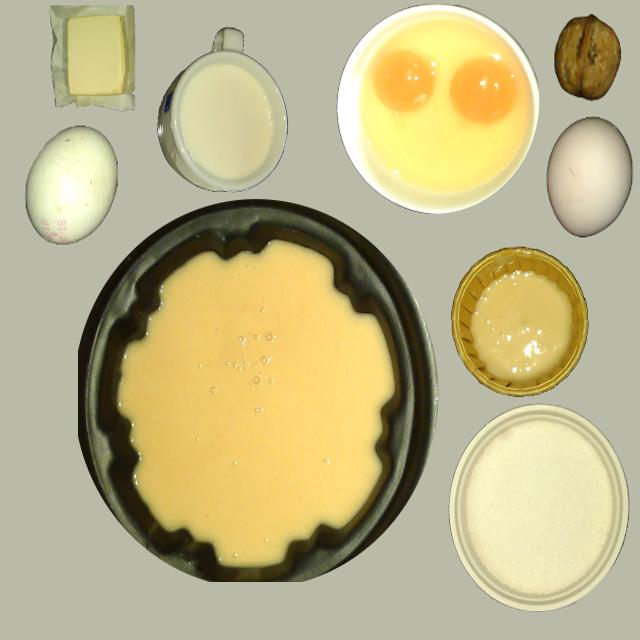Egg: (350, 27, 529, 215)
Milk: (169, 40, 288, 192)
Sugar: (452, 406, 628, 616)
